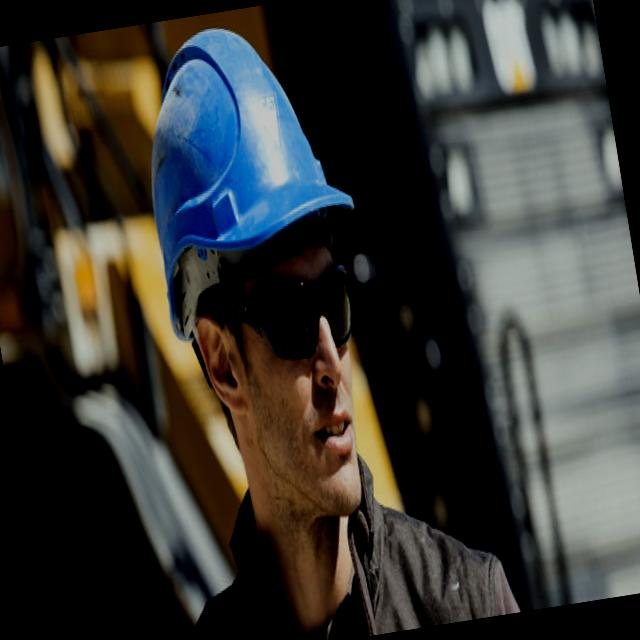goggles: (184, 249, 386, 383)
helmet: (106, 7, 361, 276)
no-vest: (160, 451, 521, 640)
